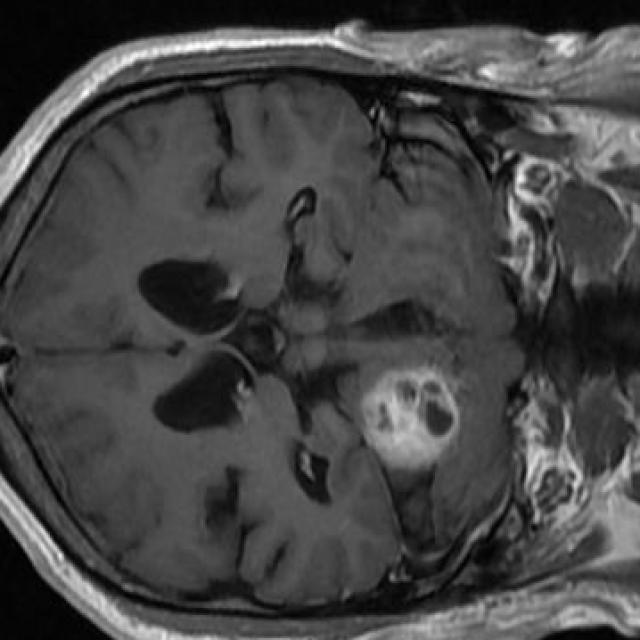meningioma: (362, 367, 460, 469)
